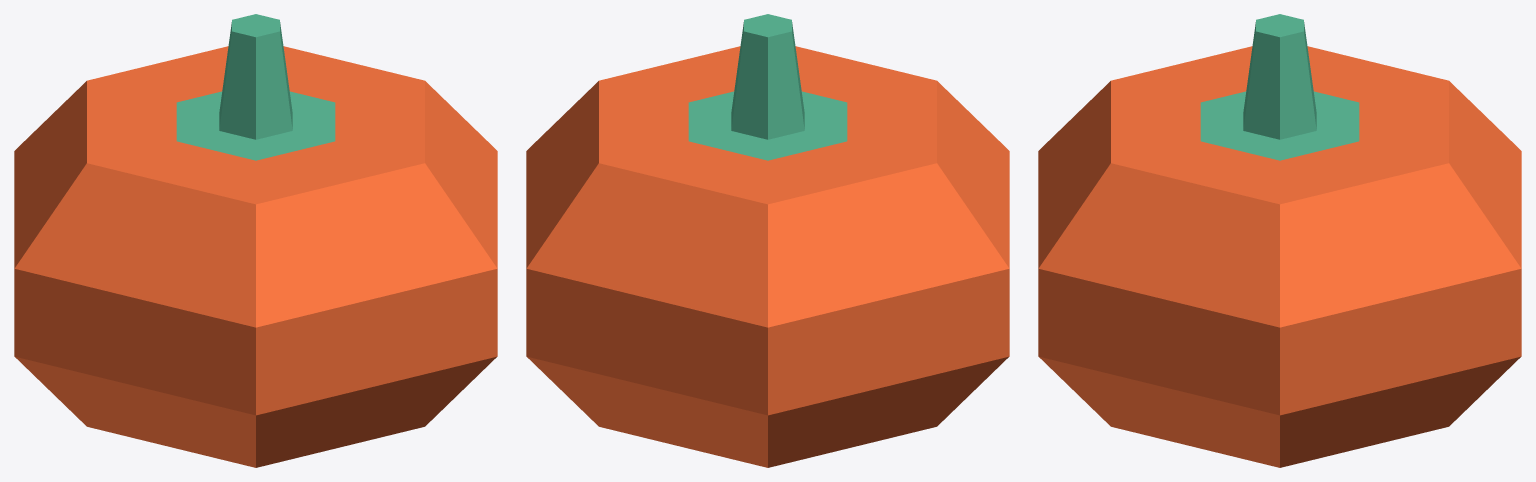
File: pumpkinBasic.obj
3 renders of one model, left to right at view 1: azimuth 30°, elevation 25°; view 2: azimuth 150°, elevation 25°; view 3: azimuth 270°, elevation 25°, orthographic.
Visible parts, largest first — view 1: pumpkinBasic; view 2: pumpkinBasic; view 3: pumpkinBasic.
Boxes of the visible parts, box(x1,y1,x2,y2) form: pumpkinBasic: box(14, 14, 497, 467); pumpkinBasic: box(526, 14, 1009, 467); pumpkinBasic: box(1038, 14, 1521, 467).
Bounding box in the file's own units: 0.42 × 0.299 × 0.3637.
